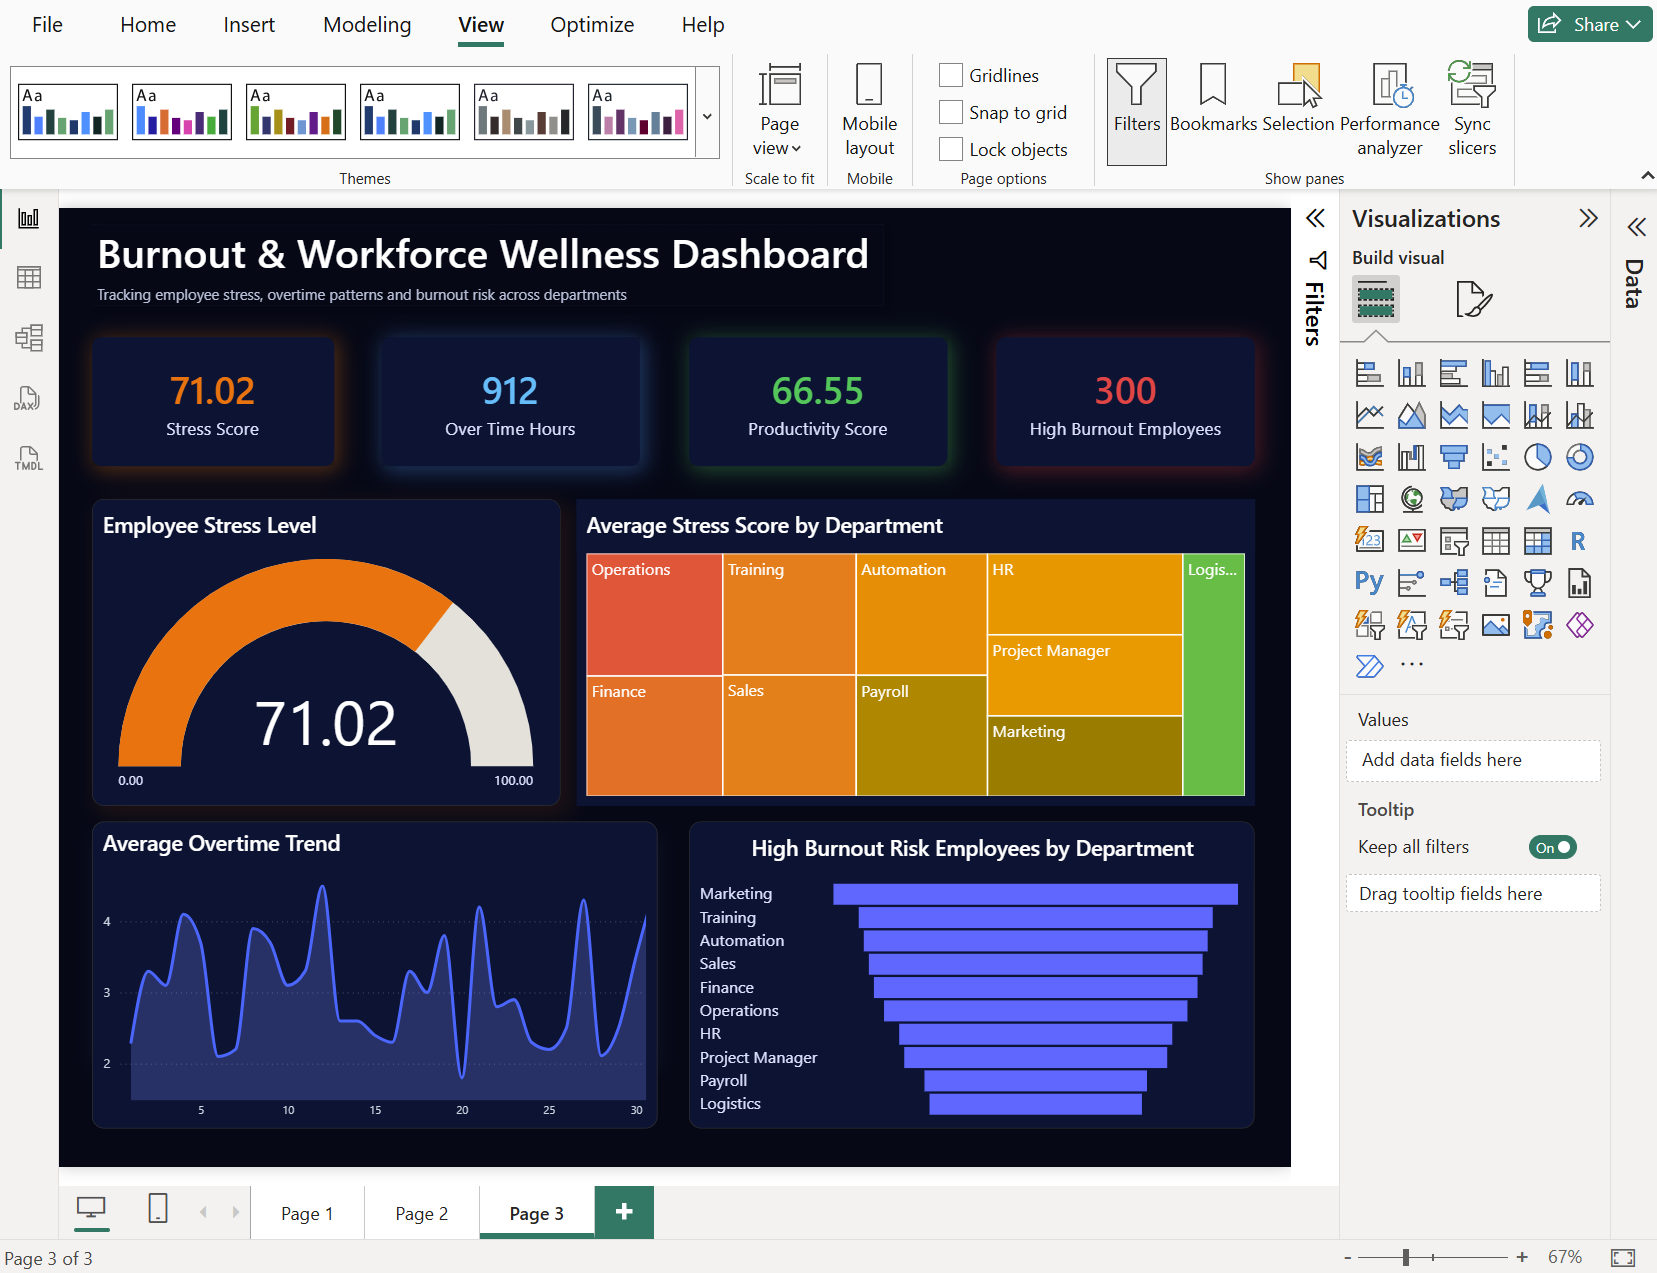

What the dashboard file says about the page in this screenshot:
{"tool":"powerbi","page":{"name":"Page 3","canvas":[1220,950],"ordinal":2},"visuals":[{"type":"shape","box":[624,608,560,304],"z":0},{"type":"shape","box":[32,624,560,224],"z":1000},{"type":"shape","box":[496,288.7,671.8,304.4],"z":2000},{"type":"shape","box":[32,288,464,304],"z":3000},{"type":"shape","box":[928,128,240,128],"z":4000},{"type":"shape","box":[624,128,256,128],"z":5000},{"type":"shape","box":[320,128,256,128],"z":6000},{"type":"shape","box":[32,128,240,128],"z":7000},{"type":"cardVisual","fields":{"Data":["Sum(Burnout.OverTimeHours)"]},"box":[320,128,256,128],"z":8000},{"type":"cardVisual","fields":{"Data":["CountNonNull(Burnout.BurnoutRisk)"]},"box":[928,128,256,128],"z":9000},{"type":"cardVisual","fields":{"Data":["Avg(Productivity.ProductivityScore)"]},"box":[624,128,256,128],"z":10000},{"type":"gauge","title":"Employee Stress Level","fields":{"Y":["Avg(Burnout.StressScore)"]},"box":[32.9,287.3,463.1,304.4],"z":11000},{"type":"treemap","title":"Average Stress Score by Department","fields":{"Group":["EMPLOYEES.Department"],"Values":["AI_Usage.Avg Stress Score"]},"box":[513.1,288.7,671.8,304.4],"z":12000},{"type":"areaChart","title":"Average Overtime Trend","fields":{"Category":["Burnout.Date.Variation.Date Hierarchy.Day"],"Y":["Avg(Burnout.OverTimeHours)"]},"box":[32,608,560,304],"z":13000},{"type":"funnel","title":"High Burnout Risk Employees by Department","fields":{"Y":["CountNonNull(Burnout.BurnoutRisk)"],"Category":["EMPLOYEES.Department"]},"box":[610.3,607.5,573.2,304.4],"z":14000},{"type":"textbox","title":"Burnout & Workforce Wellness Dashboard","box":[32,16,784,80],"z":15000},{"type":"cardVisual","fields":{"Data":["AI_Usage.Avg Stress Score"]},"box":[32,128,240,128],"z":16000}]}

Visuals, with their boxes on the page's 1220x950 design canvas (x1, y1, x2, y2). These are canvas units, not pixel positions in the 1657x1273 screenshot, which may show the page scaled, cropped or inside an application window:
shape: [left=624, top=608, right=1184, bottom=912]
shape: [left=32, top=624, right=592, bottom=848]
shape: [left=496, top=289, right=1168, bottom=593]
shape: [left=32, top=288, right=496, bottom=592]
shape: [left=928, top=128, right=1168, bottom=256]
shape: [left=624, top=128, right=880, bottom=256]
shape: [left=320, top=128, right=576, bottom=256]
shape: [left=32, top=128, right=272, bottom=256]
cardVisual - Sum(Burnout.OverTimeHours): [left=320, top=128, right=576, bottom=256]
cardVisual - CountNonNull(Burnout.BurnoutRisk): [left=928, top=128, right=1184, bottom=256]
cardVisual - Avg(Productivity.ProductivityScore): [left=624, top=128, right=880, bottom=256]
"Employee Stress Level" gauge: [left=33, top=287, right=496, bottom=592]
"Average Stress Score by Department" treemap: [left=513, top=289, right=1185, bottom=593]
"Average Overtime Trend" areaChart: [left=32, top=608, right=592, bottom=912]
"High Burnout Risk Employees by Department" funnel: [left=610, top=608, right=1184, bottom=912]
"Burnout & Workforce Wellness Dashboard" textbox: [left=32, top=16, right=816, bottom=96]
cardVisual - AI_Usage.Avg Stress Score: [left=32, top=128, right=272, bottom=256]
